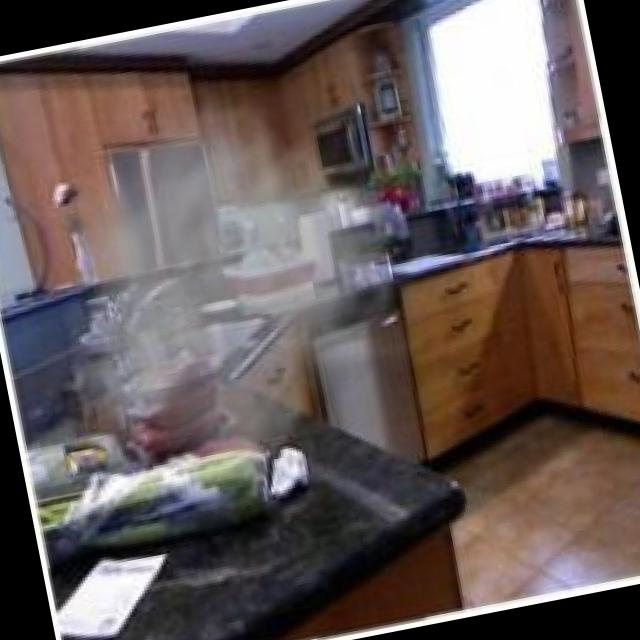Smoke: (23, 42, 474, 523)
